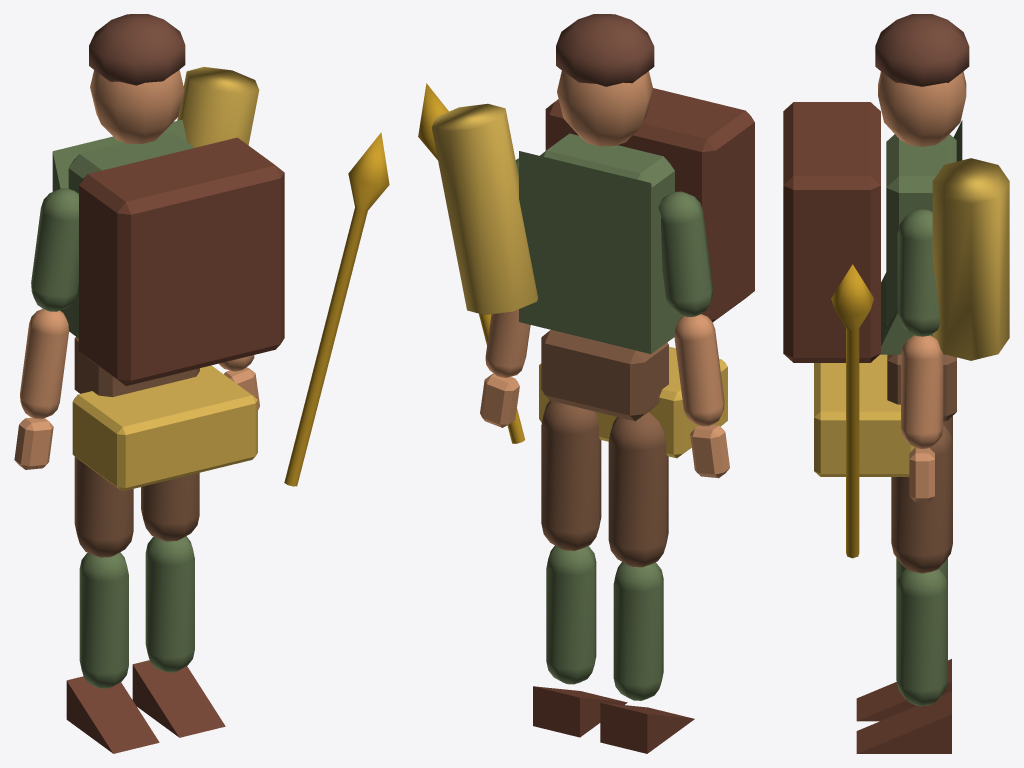
Rendered from adventurer.rustic.glb.
3 views of the same model, side by side, from view 1: azimuth 30°, elevation 25°; view 2: azimuth 150°, elevation 25°; view 3: azimuth 270°, elevation 25° (orthographic).
Visible parts, largest first — view 1: accessory.body, accessory.waist, shin.right, shin.left, accessory.main-hand, hair, accessory.back, upper-arm.left, head, foot.left, foot.right, thigh.left (+6 smaller); view 2: tunic, accessory.body, accessory.back, pelvis, thigh.left, thigh.right, shin.right, shin.left, hair, upper-arm.left, head, forearm.left (+8 smaller); view 3: accessory.body, accessory.back, accessory.waist, shin.right, thigh.right, hair, torso, accessory.main-hand, head, upper-arm.right, forearm.right, foot.right (+4 smaller).
Boxes of the visible parts, left/top/right/bottom form: accessory.body: left=79, top=137, right=284, bottom=385; accessory.waist: left=72, top=365, right=257, bottom=491; shin.right: left=145, top=536, right=194, bottom=672; shin.left: left=79, top=552, right=128, bottom=688; accessory.main-hand: left=284, top=132, right=389, bottom=486; hair: left=89, top=14, right=185, bottom=85; accessory.back: left=177, top=67, right=259, bottom=147; upper-arm.left: left=31, top=188, right=78, bottom=311; head: left=90, top=70, right=184, bottom=144; foot.left: left=66, top=676, right=159, bottom=753; foot.right: left=132, top=660, right=225, bottom=737; thigh.left: left=74, top=456, right=133, bottom=557; tunic: left=519, top=151, right=683, bottom=353; accessory.body: left=545, top=88, right=754, bottom=321; accessory.back: left=431, top=103, right=538, bottom=314; pelvis: left=541, top=330, right=668, bottom=421; thigh.left: left=608, top=412, right=668, bottom=567; thigh.right: left=541, top=400, right=601, bottom=550; shin.right: left=546, top=545, right=596, bottom=684; shin.left: left=613, top=562, right=663, bottom=700; hair: left=556, top=14, right=654, bottom=86; upper-arm.left: left=658, top=191, right=712, bottom=317; head: left=557, top=71, right=652, bottom=146; forearm.left: left=674, top=314, right=724, bottom=426; accessory.body: left=783, top=102, right=880, bottom=362; accessory.back: left=932, top=158, right=1009, bottom=360; accessory.waist: left=814, top=354, right=914, bottom=476; shin.right: left=896, top=569, right=947, bottom=706; thigh.right: left=891, top=424, right=952, bottom=573; hair: left=875, top=14, right=969, bottom=86; torso: left=886, top=134, right=956, bottom=324; accessory.main-hand: left=831, top=264, right=874, bottom=558; head: left=878, top=71, right=966, bottom=146; upper-arm.right: left=897, top=209, right=939, bottom=336; forearm.right: left=901, top=335, right=943, bottom=448; foot.right: left=856, top=691, right=951, bottom=753.
Size of the model in its own units: 1.53 by 3.03 by 0.88.
